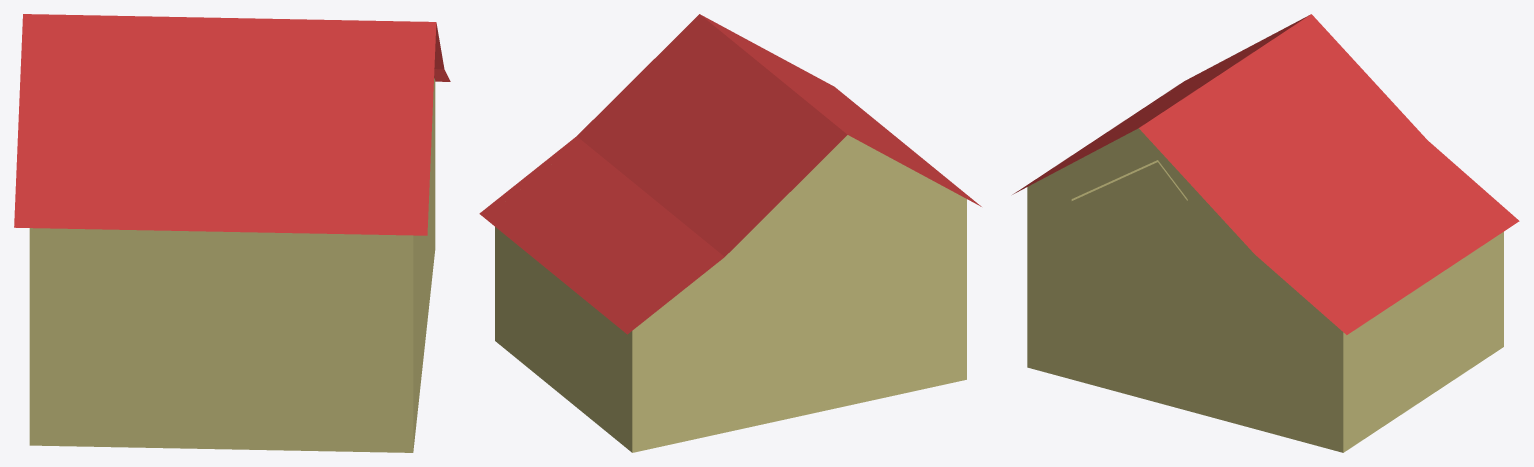
3 renders of one model, left to right at view 1: azimuth 30°, elevation 25°; view 2: azimuth 150°, elevation 25°; view 3: azimuth 270°, elevation 25°, orthographic. The views are drawn at different scales.
Bounding box in the file's own units: 21.01 × 22.03 × 13.16.
